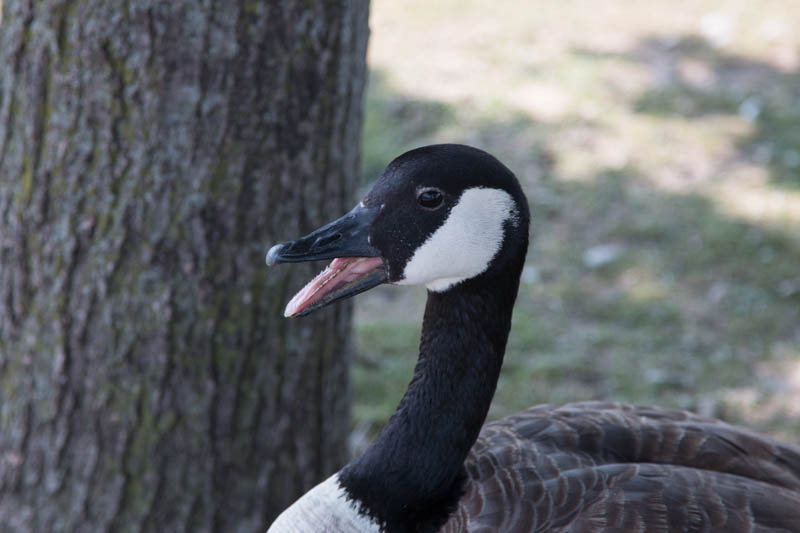goose-head: (263, 144, 532, 323)
